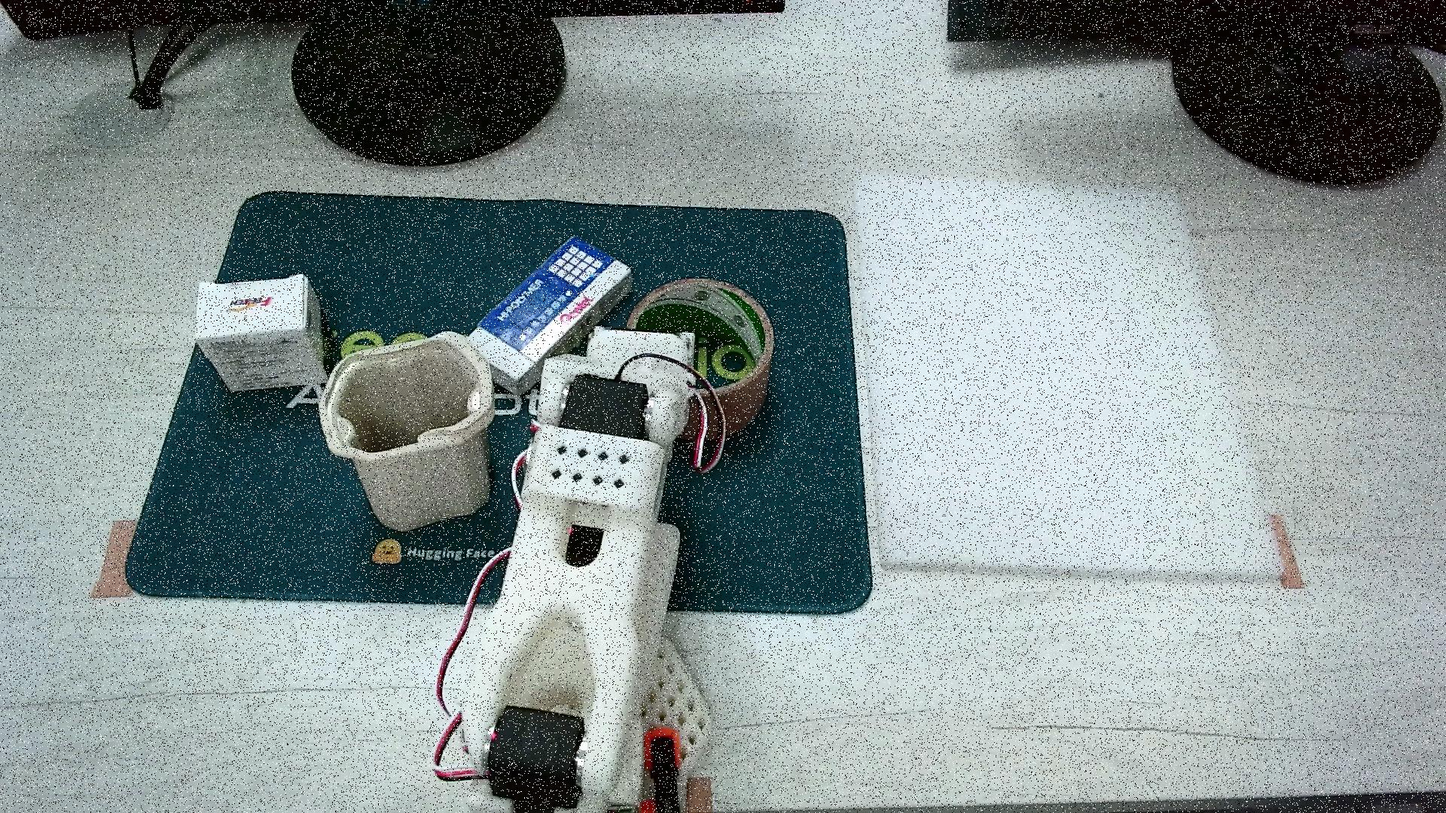eraser: (196, 275, 328, 391)
